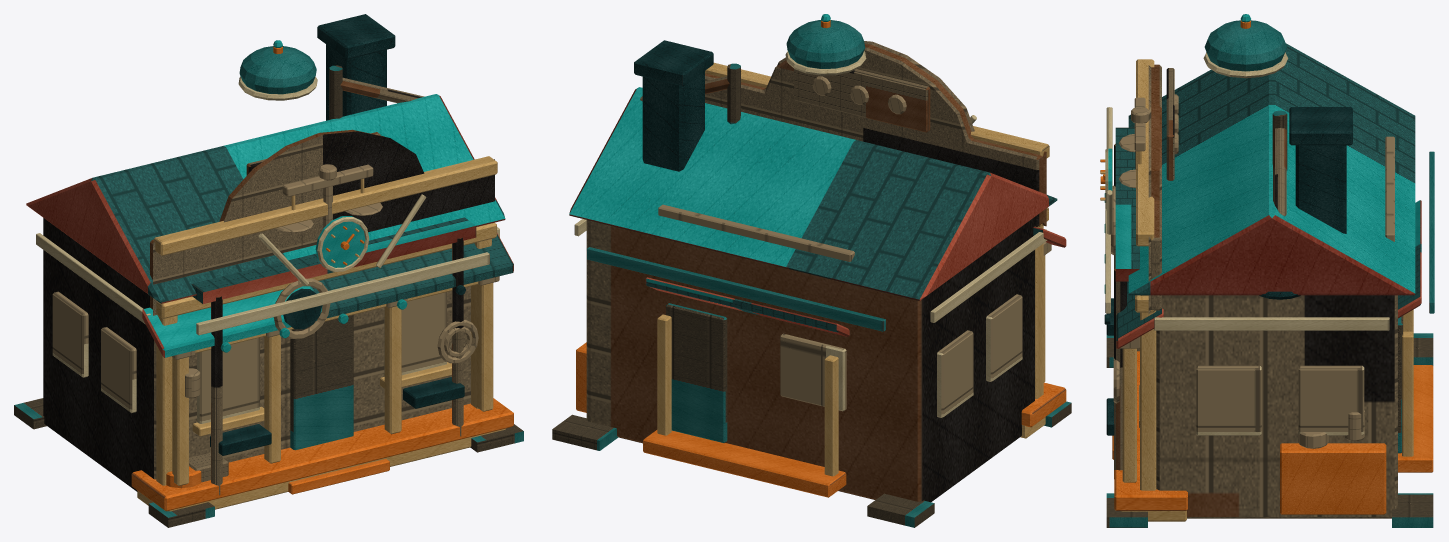
The model's file is assay-office.e6.glb.
The picture shows the model from 3 angles, left to right: view 1: azimuth 30°, elevation 25°; view 2: azimuth 150°, elevation 25°; view 3: azimuth 270°, elevation 25°; orthographic projection. The views are drawn at different scales.
Visible parts, largest first — view 1: StarstoneAssayE6; view 2: StarstoneAssayE6; view 3: StarstoneAssayE6.
Part boxes in pixels (box(x1,y1,x2,y2)): StarstoneAssayE6: box(14, 14, 523, 527); StarstoneAssayE6: box(552, 14, 1071, 527); StarstoneAssayE6: box(1100, 14, 1434, 527).
Bounding box in the file's own units: 4.42 × 4.72 × 3.4.
1 material, 1 textured.
